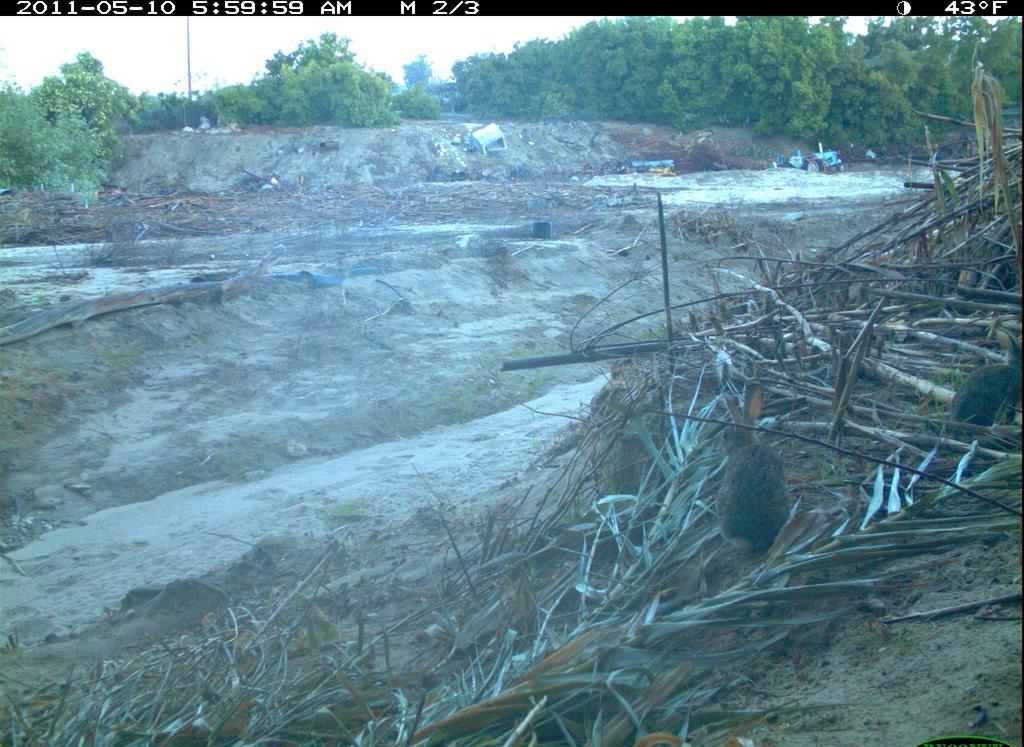rabbit: (712, 377, 802, 562), (943, 329, 1021, 446)
